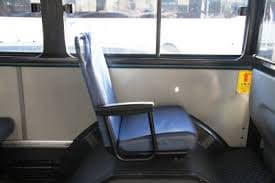seat: (76, 29, 199, 154)
